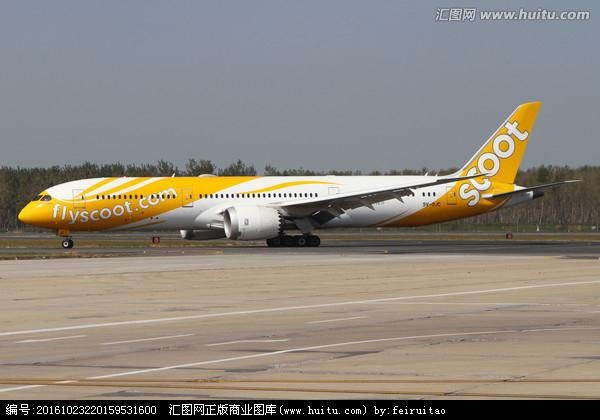airplane: (15, 99, 583, 250)
